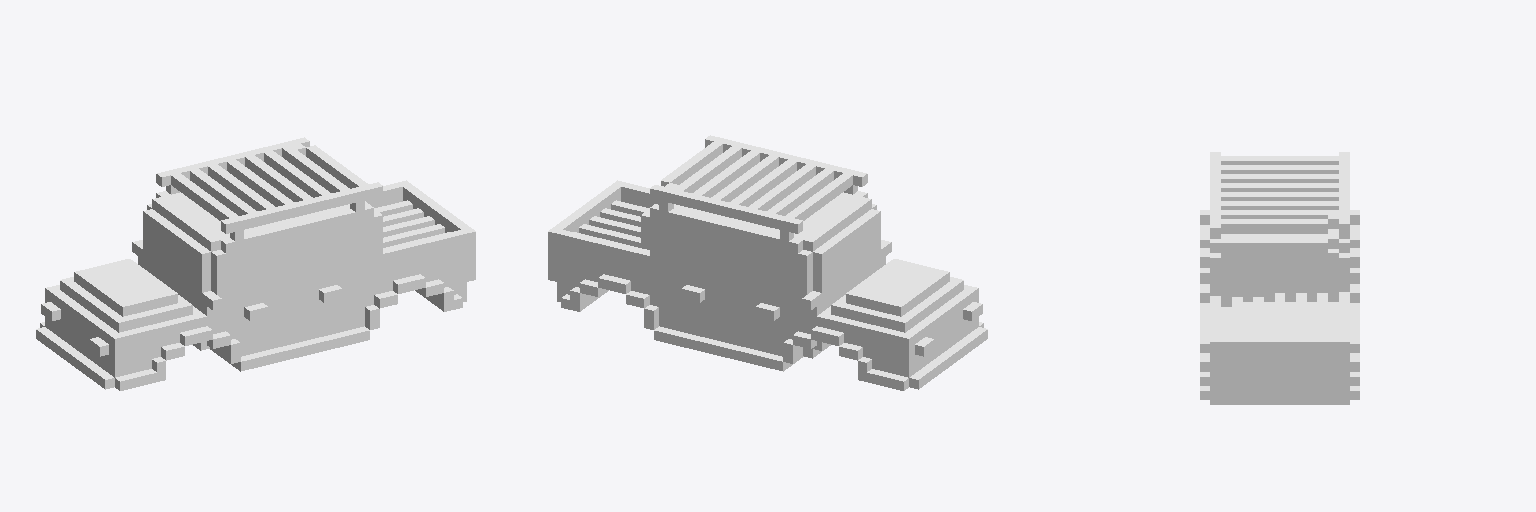
Rendered from masochut.obj.
The picture shows the model from 3 angles: view 1: azimuth 30°, elevation 25°; view 2: azimuth 150°, elevation 25°; view 3: azimuth 270°, elevation 25°; orthographic projection.
Parts seen in each view (by area): view 1: object 1; view 2: object 1; view 3: object 1.
Part boxes in pixels (x1,y1,x2,y2): object 1: (36, 137, 475, 390); object 1: (548, 135, 987, 390); object 1: (1200, 152, 1359, 404).
Bounding box in the file's own units: 4 × 1.5 × 1.5.